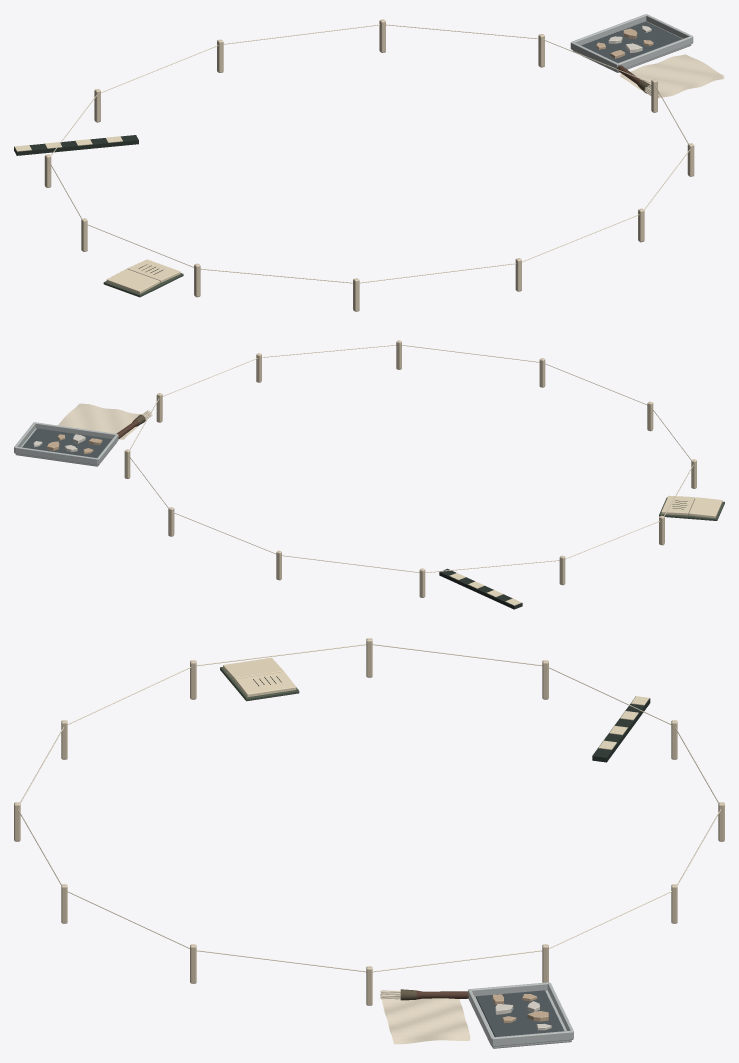
File: field-tools-v3.glb
The picture shows the model from 3 angles, top to bottom: view 1: azimuth 30°, elevation 25°; view 2: azimuth 150°, elevation 25°; view 3: azimuth 270°, elevation 25°; orthographic projection. The views are drawn at different scales.
Parts seen in each view (by area): view 1: Soft folded cloth, Dark felt backing, Notebook pages (×2), Archival raised side (×2), Measuring bar backing; view 2: Soft folded cloth, Dark felt backing, Archival raised side (×2), Notebook pages (×2), Measuring bar backing; view 3: Soft folded cloth, Dark felt backing, Notebook pages (×2), Measuring bar backing, Archival raised end.
Boxes of the visible parts, bbox=[...] form: Soft folded cloth: bbox=[620, 54, 724, 95]; Dark felt backing: bbox=[581, 21, 682, 62]; Notebook pages (×2): bbox=[106, 259, 180, 293]; Archival raised side (×2): bbox=[572, 14, 692, 68]; Measuring bar backing: bbox=[14, 135, 138, 155]; Soft folded cloth: bbox=[58, 403, 141, 436]; Dark felt backing: bbox=[22, 428, 111, 457]; Archival raised side (×2): bbox=[15, 422, 116, 464]; Notebook pages (×2): bbox=[661, 495, 722, 518]; Measuring bar backing: bbox=[439, 568, 522, 609]; Soft folded cloth: bbox=[382, 998, 470, 1040]; Dark felt backing: bbox=[475, 990, 564, 1036]; Notebook pages (×2): bbox=[223, 657, 296, 697]; Measuring bar backing: bbox=[592, 696, 650, 762]; Archival raised end: bbox=[491, 1030, 573, 1046].
Size of the model in its own units: 4.91 by 0.22 by 3.76.
